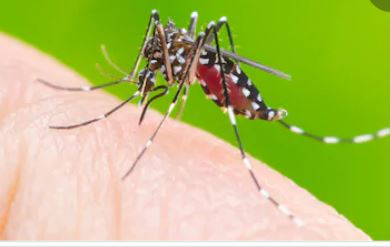dengue_mosquito: (88, 9, 322, 153)
